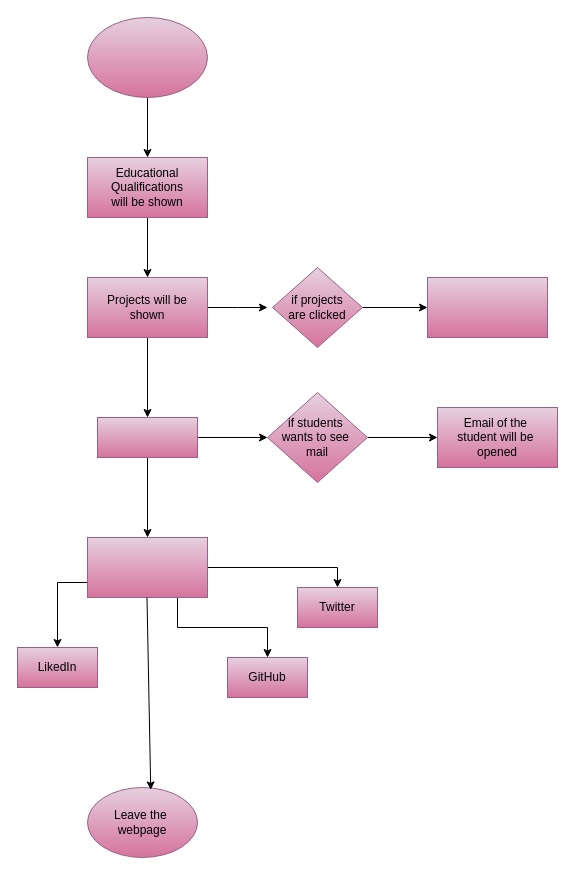
The diagram is 575 pixels wide and 875 high, and some of its shapes have lost their labels. The shapes that lost their labels are listed below. From the top down, each one's centre as x and y in pixels, then its label:
At point 147,57: "Enter into webpage".
At point 487,307: "Directed to the project".
At point 147,437: "contact Details".
At point 147,567: "Social media links".
